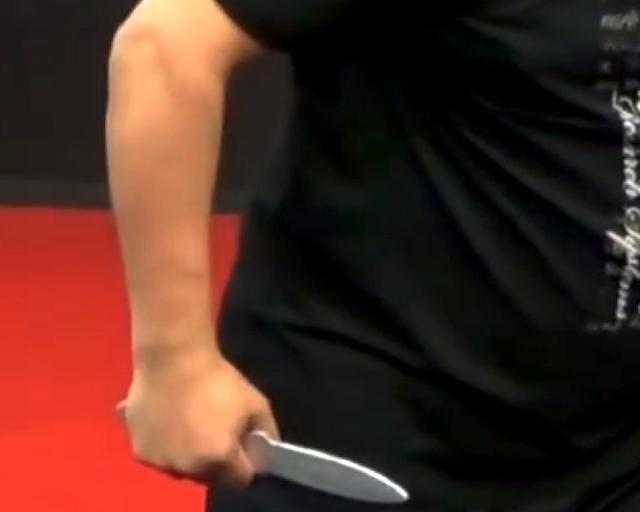pocket-knife: (112, 382, 410, 512)
